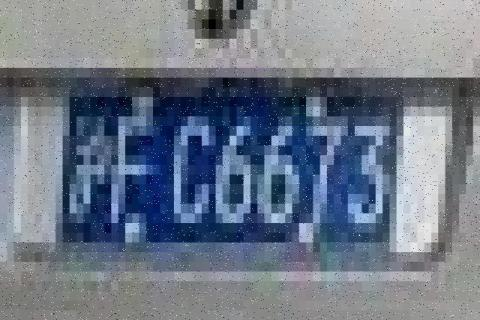LicensePlate: (14, 78, 454, 264)
